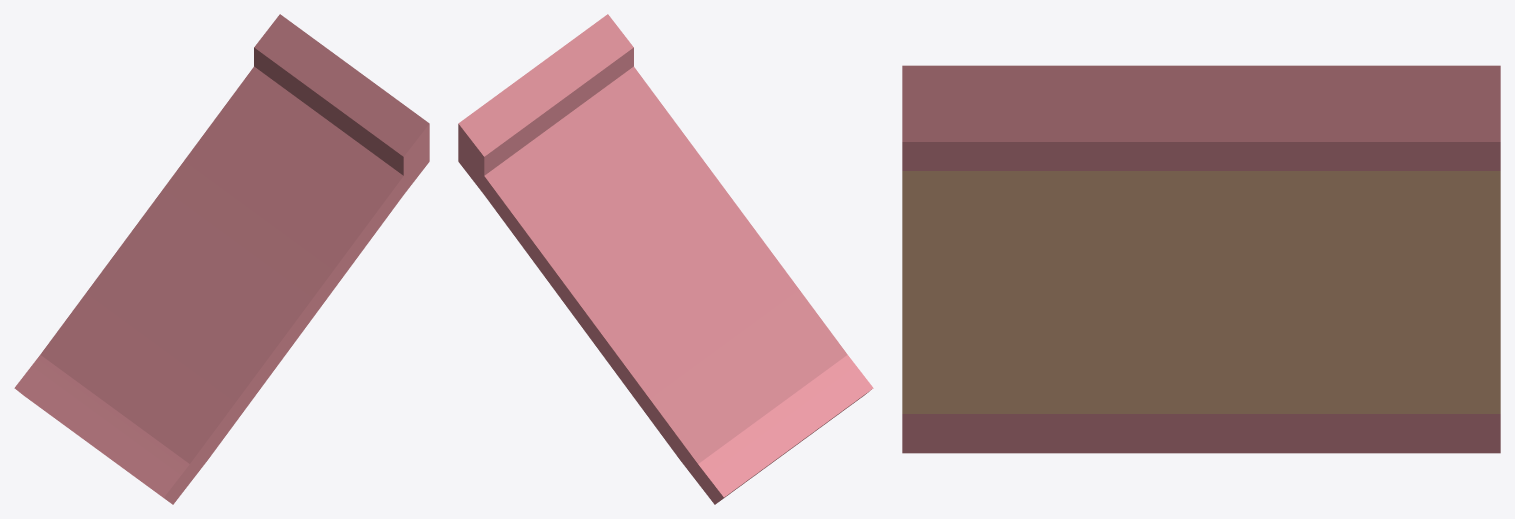
The model's file is roofHigh.fbx.
3 views of the same model, side by side, from view 1: azimuth 30°, elevation 25°; view 2: azimuth 150°, elevation 25°; view 3: azimuth 270°, elevation 25° (orthographic). The views are drawn at different scales.
Parts seen in each view (by area): view 1: roofHigh; view 2: roofHigh; view 3: roofHigh.
Boxes of the visible parts, left/top/right/bottom form: roofHigh: left=14, top=14, right=429, bottom=504; roofHigh: left=458, top=14, right=873, bottom=504; roofHigh: left=902, top=65, right=1500, bottom=453.
Bounding box in the file's own units: 103 × 118 × 100.
